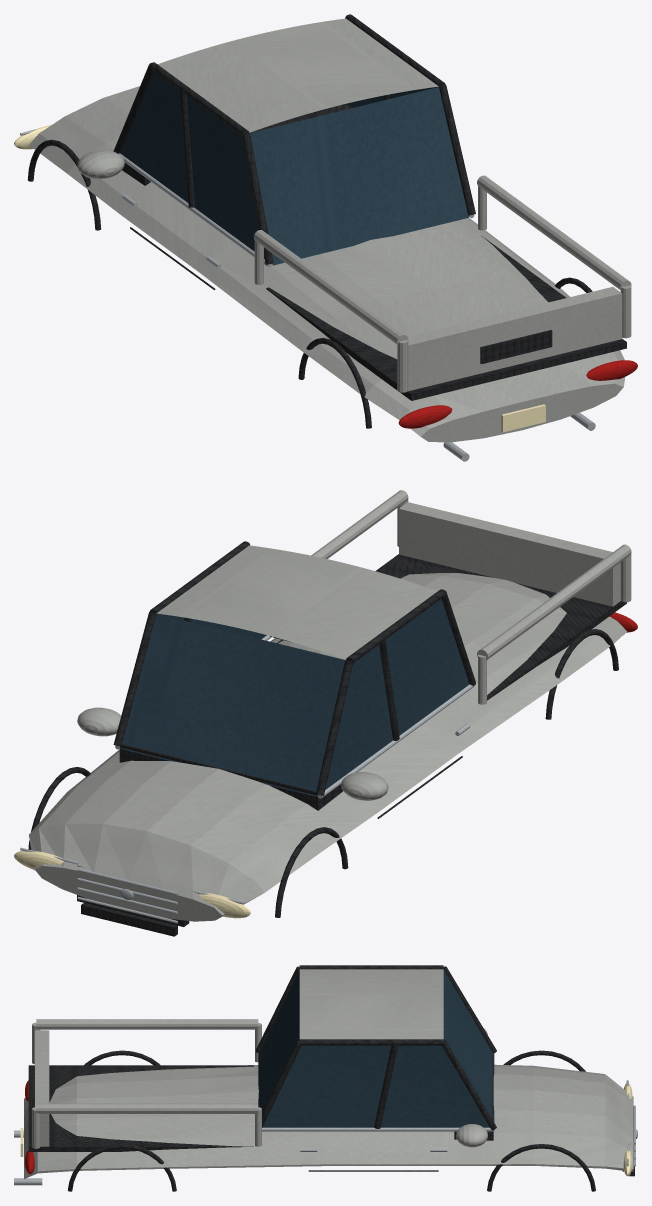
File: pickup_v18_shell.glb
3 renders of one model, top to bottom at view 1: azimuth 30°, elevation 25°; view 2: azimuth 150°, elevation 25°; view 3: azimuth 270°, elevation 25°, orthographic. The views are drawn at different scales.
Parts seen in each view (by area): view 1: silverpaint, glass, rubber, chrome, red, white; view 2: silverpaint, glass, rubber, chrome, white; view 3: silverpaint, glass, rubber, chrome, white.
Part boxes in pixels (x1=…): silverpaint: x1=29, y1=18, x2=631, y2=442; glass: x1=120, y1=72, x2=468, y2=265; rubber: x1=27, y1=14, x2=626, y2=428; chrome: x1=20, y1=129, x2=595, y2=461; red: x1=398, y1=360, x2=637, y2=428; white: x1=14, y1=125, x2=545, y2=432; silverpaint: x1=29, y1=490, x2=631, y2=921; glass: x1=120, y1=598, x2=469, y2=796; rubber: x1=28, y1=541, x2=626, y2=936; chrome: x1=20, y1=635, x2=474, y2=923; white: x1=14, y1=851, x2=250, y2=918; silverpaint: x1=24, y1=969, x2=633, y2=1178; glass: x1=258, y1=969, x2=494, y2=1127; rubber: x1=28, y1=965, x2=634, y2=1191; chrome: x1=14, y1=1053, x2=637, y2=1185; white: x1=20, y1=1083, x2=632, y2=1176.
Bounding box in the file's own units: 2.71 × 1.75 × 6.19.
Materials: 6 (6 with a texture image).
